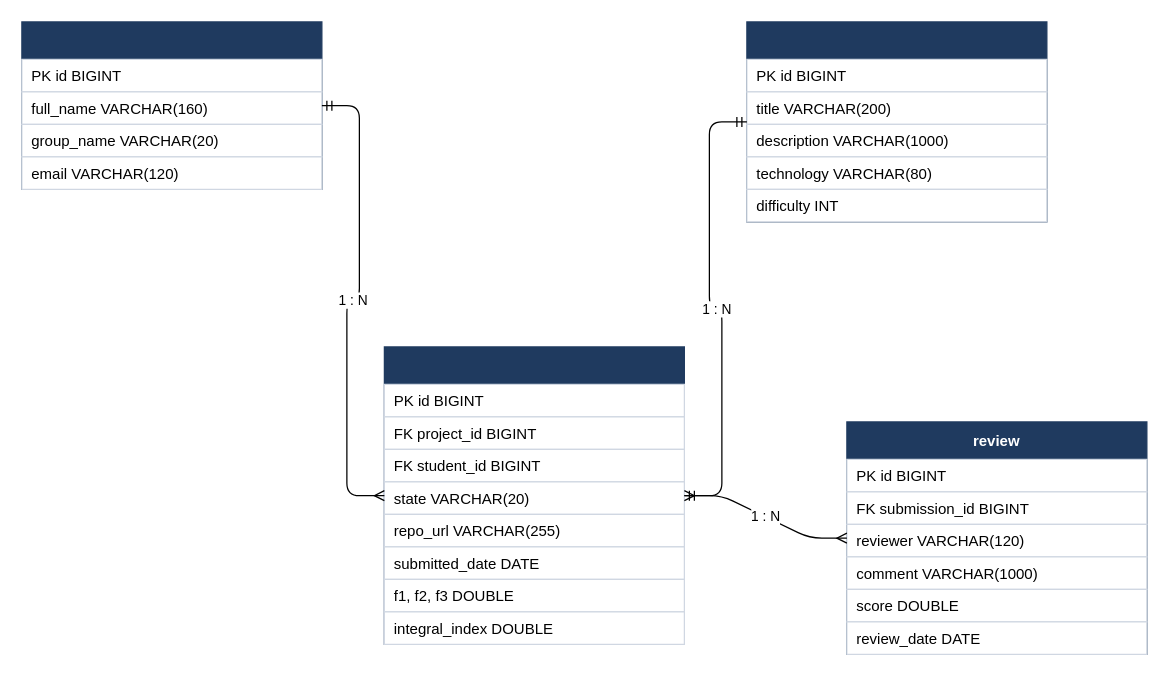
This 1169x676 diagram has some shape labels left out. The box of each missing label's shape, as (x1, y1, x2, y2) in pixels:
project: (746, 21, 1047, 222)
student: (21, 21, 322, 189)
submission: (383, 346, 684, 644)
